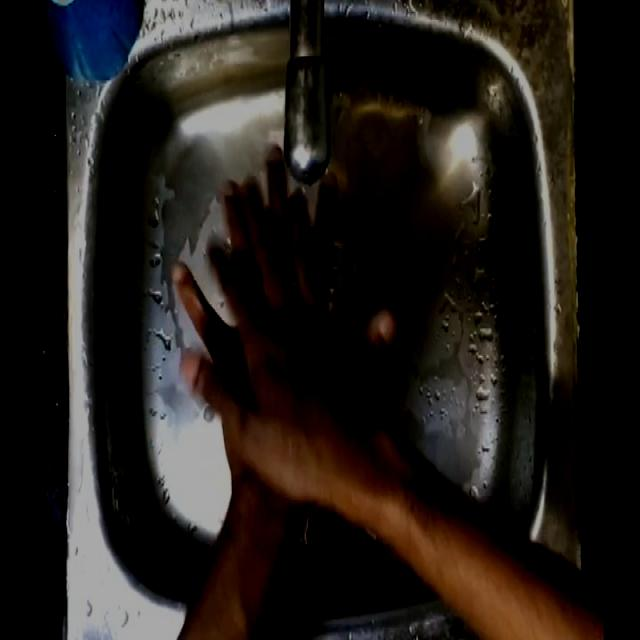step_2: (162, 138, 390, 510)
